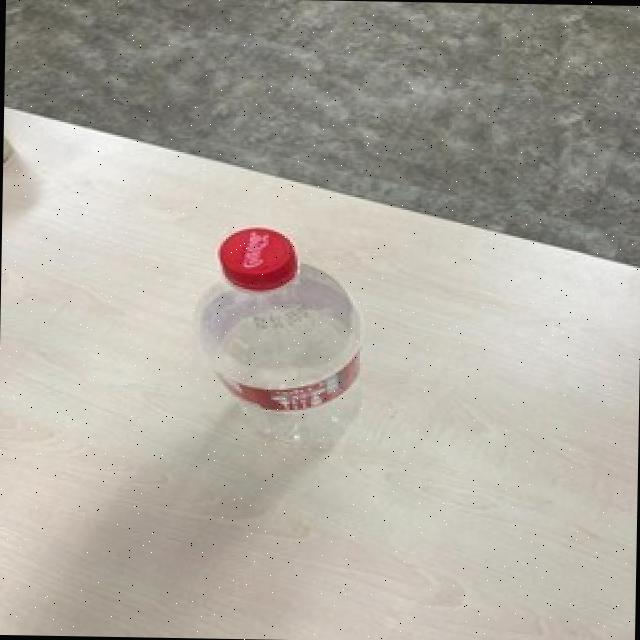bottle: (204, 220, 378, 492)
label: (188, 360, 368, 421)
